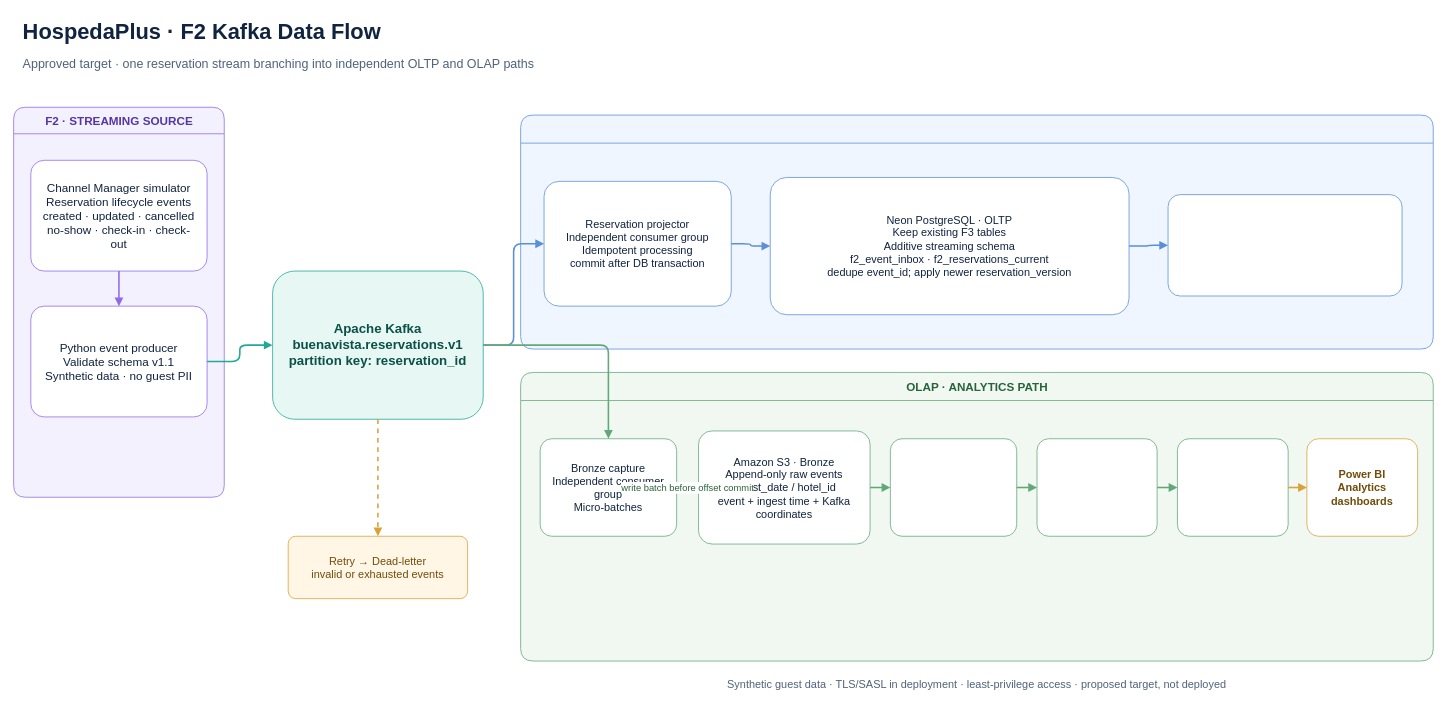
The diagram is 1447 pixels wide and 709 high, and some of its shapes have lost their labels. Here are the shapes that lost their labels. From the top down, the box of each, then its label:
(520, 114, 1433, 349): OLTP · OPERATIONAL PATH
(1167, 194, 1402, 296): Booking and operations APIs Read current reservation projection
(890, 438, 1017, 536): Airflow Scheduled batch transforms
(1036, 438, 1157, 536): Silver Validate · deduplicate Pseudonymize
(1177, 438, 1288, 536): Gold Revenue facts + dimensions
